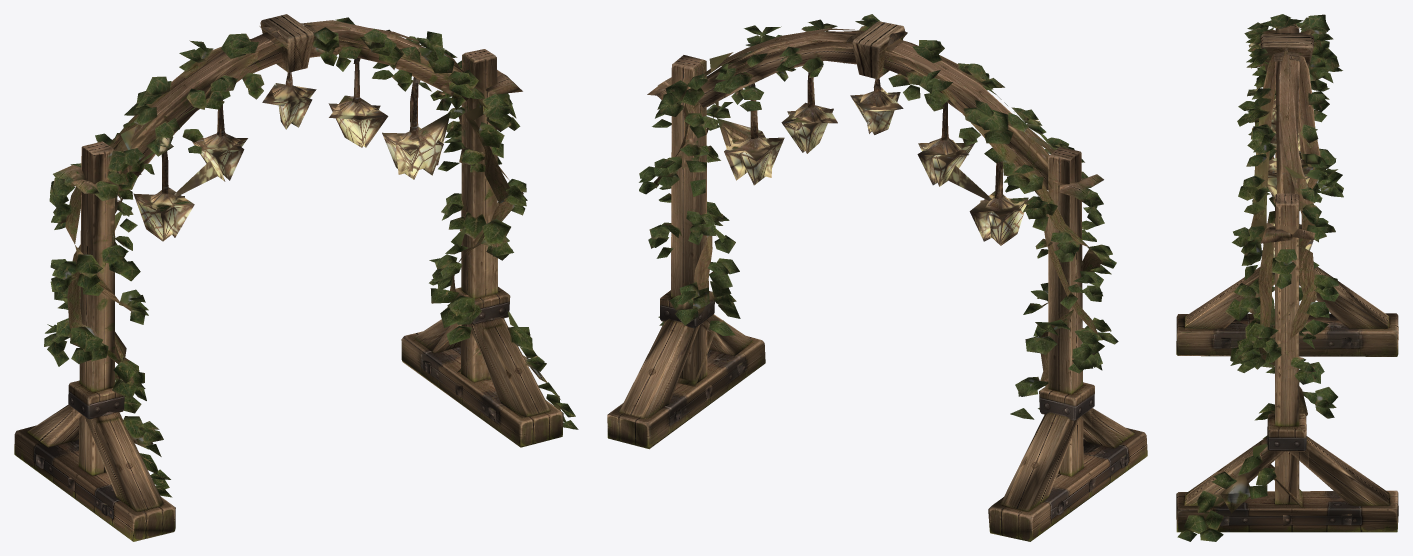
The model's file is lantern-arch.glb.
The picture shows the model from 3 angles, left to right: view 1: azimuth 30°, elevation 25°; view 2: azimuth 150°, elevation 25°; view 3: azimuth 270°, elevation 25°; orthographic projection. The views are drawn at different scales.
Parts seen in each view (by area): view 1: Mesh_0.001; view 2: Mesh_0.001; view 3: Mesh_0.001.
Boxes of the visible parts, bbox=[...] form: Mesh_0.001: bbox=[14, 14, 578, 541]; Mesh_0.001: bbox=[607, 14, 1147, 541]; Mesh_0.001: bbox=[1176, 14, 1398, 541].
Size of the model in its own units: 2.86 by 2.5 by 1.27.
1 material, 1 textured.
